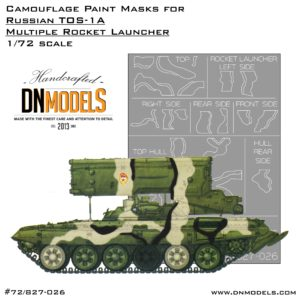Battle Tank: (10, 158, 290, 274)
